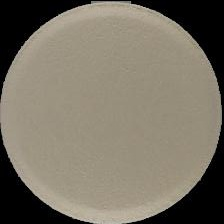0378-0076: (0, 0, 224, 224)
